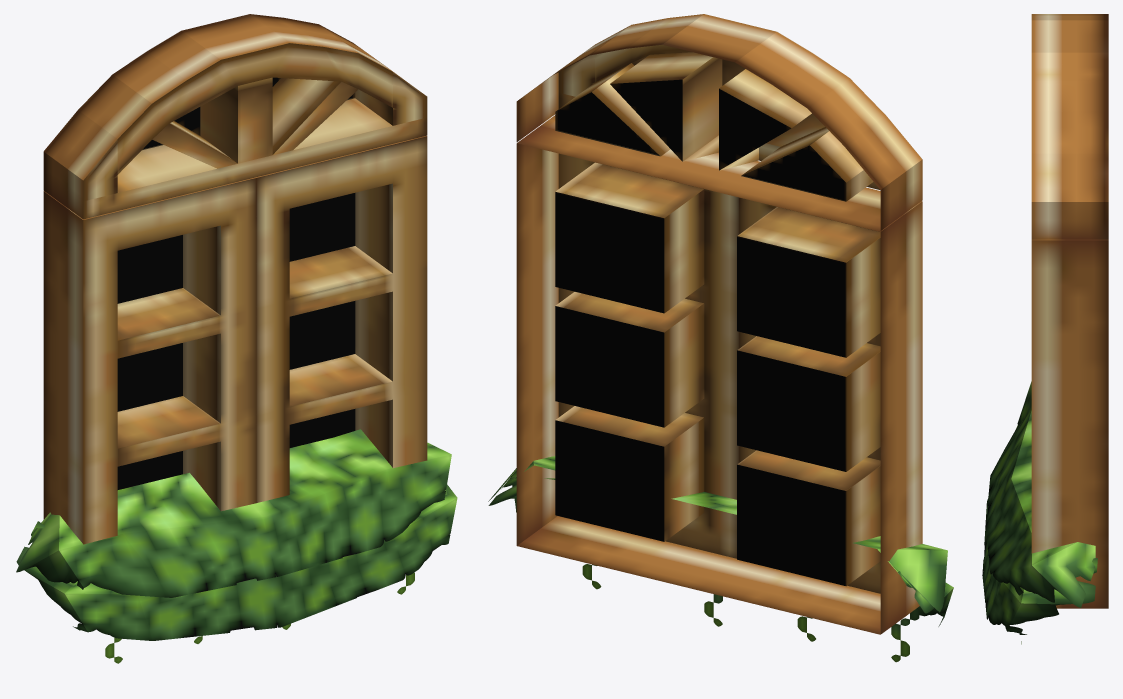
The model's file is Poly_Window_06.obj.
3 renders of one model, left to right at view 1: azimuth 30°, elevation 25°; view 2: azimuth 150°, elevation 25°; view 3: azimuth 270°, elevation 25°, orthographic. The views are drawn at different scales.
Visible parts, largest first — view 1: Cube.001, Cube.001_Cube, Cube.002; view 2: Cube.001, Cube.002, Cube.001_Cube, Plane; view 3: Cube.001, Cube.002, Cube.001_Cube.
Boxes of the visible parts, <box> form: Cube.001: <box>43,135,427,544</box>; Cube.001_Cube: <box>16,429,457,640</box>; Cube.002: <box>43,14,427,219</box>; Cube.001: <box>516,115,922,634</box>; Cube.002: <box>516,14,922,230</box>; Cube.001_Cube: <box>488,456,953,626</box>; Plane: <box>582,564,919,662</box>; Cube.001: <box>1031,239,1108,608</box>; Cube.002: <box>1031,14,1108,239</box>; Cube.001_Cube: <box>982,381,1097,634</box>.
Bounding box in the file's own units: 1.26 × 1.63 × 0.3282.
1 material, 1 textured.
